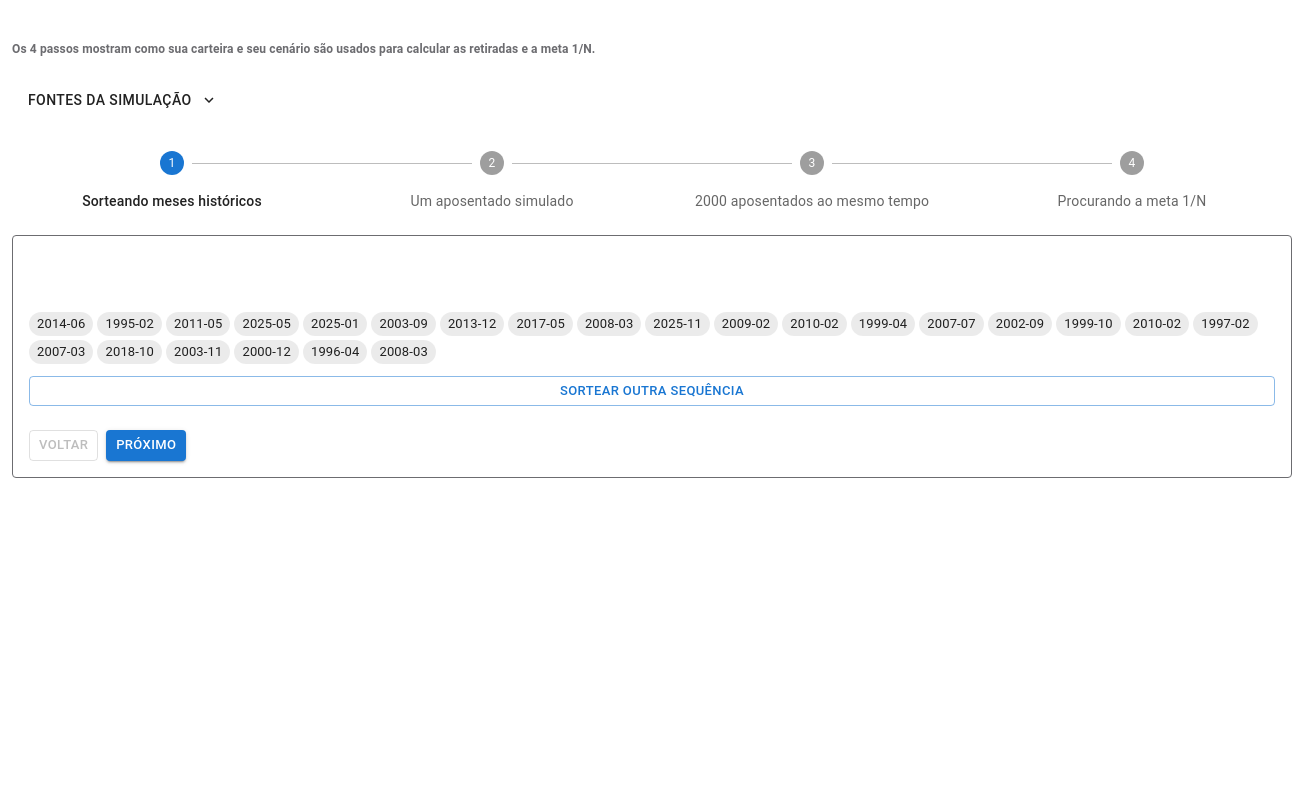
Test: labels the ensemble chart as withdrawals rather than remaining wealth
Click the text "2000 aposentados ao mesmo tempo": [812, 200] box [695,192,929,208]
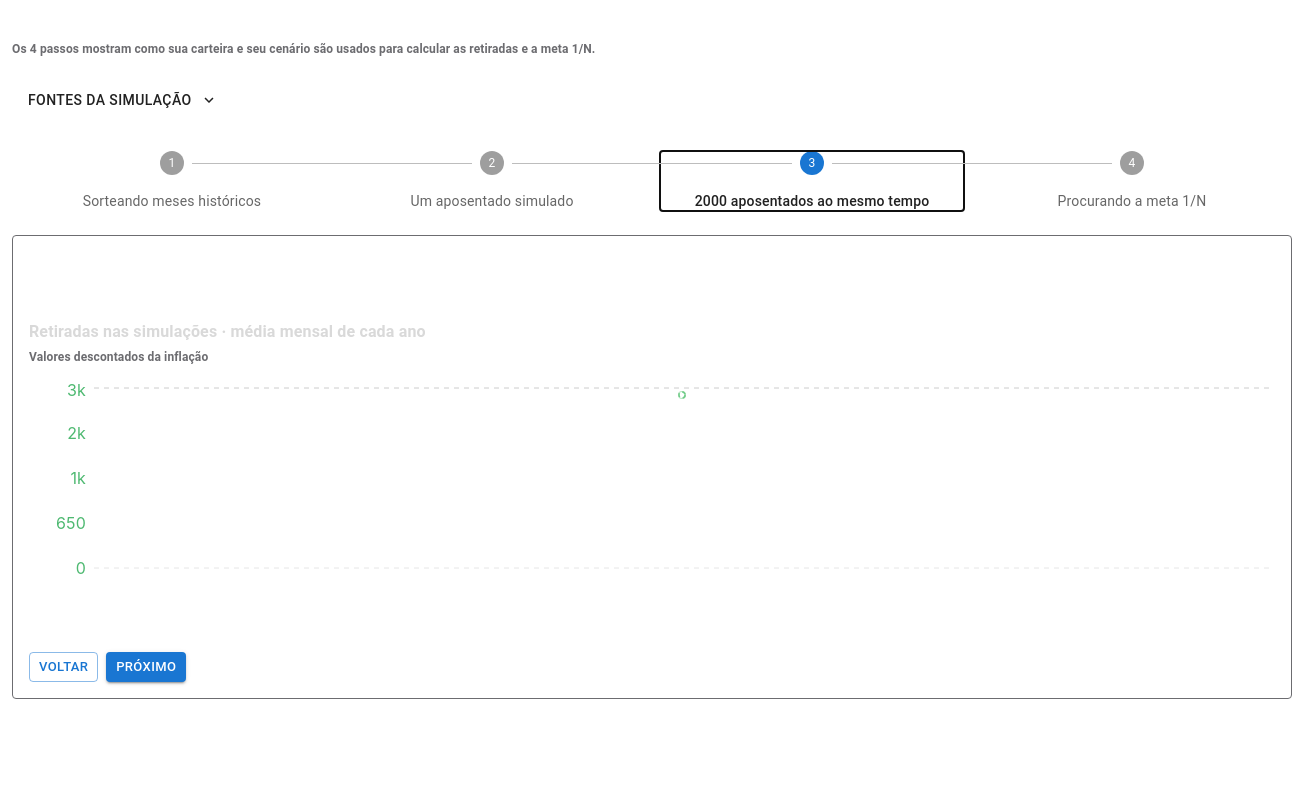
Expected: the text "Retiradas nas simulações · média mensal de cada ano" is shown, [29,320,426,344]
